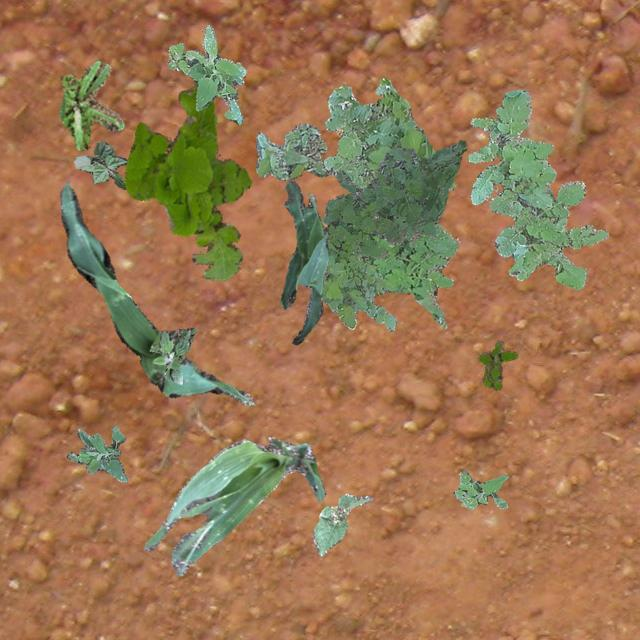crop: (58, 184, 254, 404), (143, 434, 324, 574), (280, 180, 328, 343), (312, 492, 372, 556), (72, 140, 126, 188)
weed: (320, 76, 458, 328), (468, 89, 608, 288), (124, 80, 250, 280), (320, 140, 466, 258), (166, 23, 244, 124), (320, 242, 396, 330), (58, 58, 124, 150), (255, 122, 328, 180), (66, 424, 128, 480), (148, 326, 196, 384), (452, 469, 508, 508), (476, 338, 516, 389)
